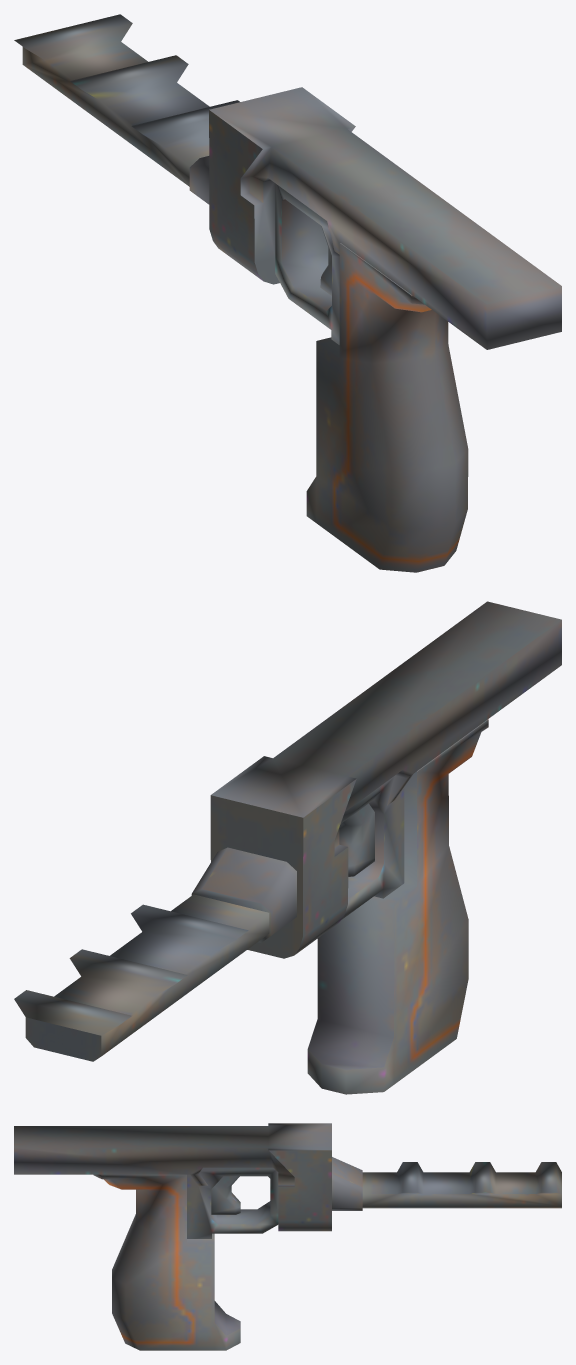
File: grip2.obj
The picture shows the model from 3 angles, top to bottom: view 1: azimuth 30°, elevation 25°; view 2: azimuth 150°, elevation 25°; view 3: azimuth 270°, elevation 25°; orthographic projection. The views are drawn at different scales.
Parts seen in each view (by area): view 1: grip2; view 2: grip2; view 3: grip2.
Boxes of the visible parts, left/top/right/bottom form: grip2: left=14, top=14, right=561, bottom=572; grip2: left=14, top=601, right=561, bottom=1094; grip2: left=14, top=1123, right=561, bottom=1350.
Size of the model in its own units: 5.08 by 15.64 by 38.3.
